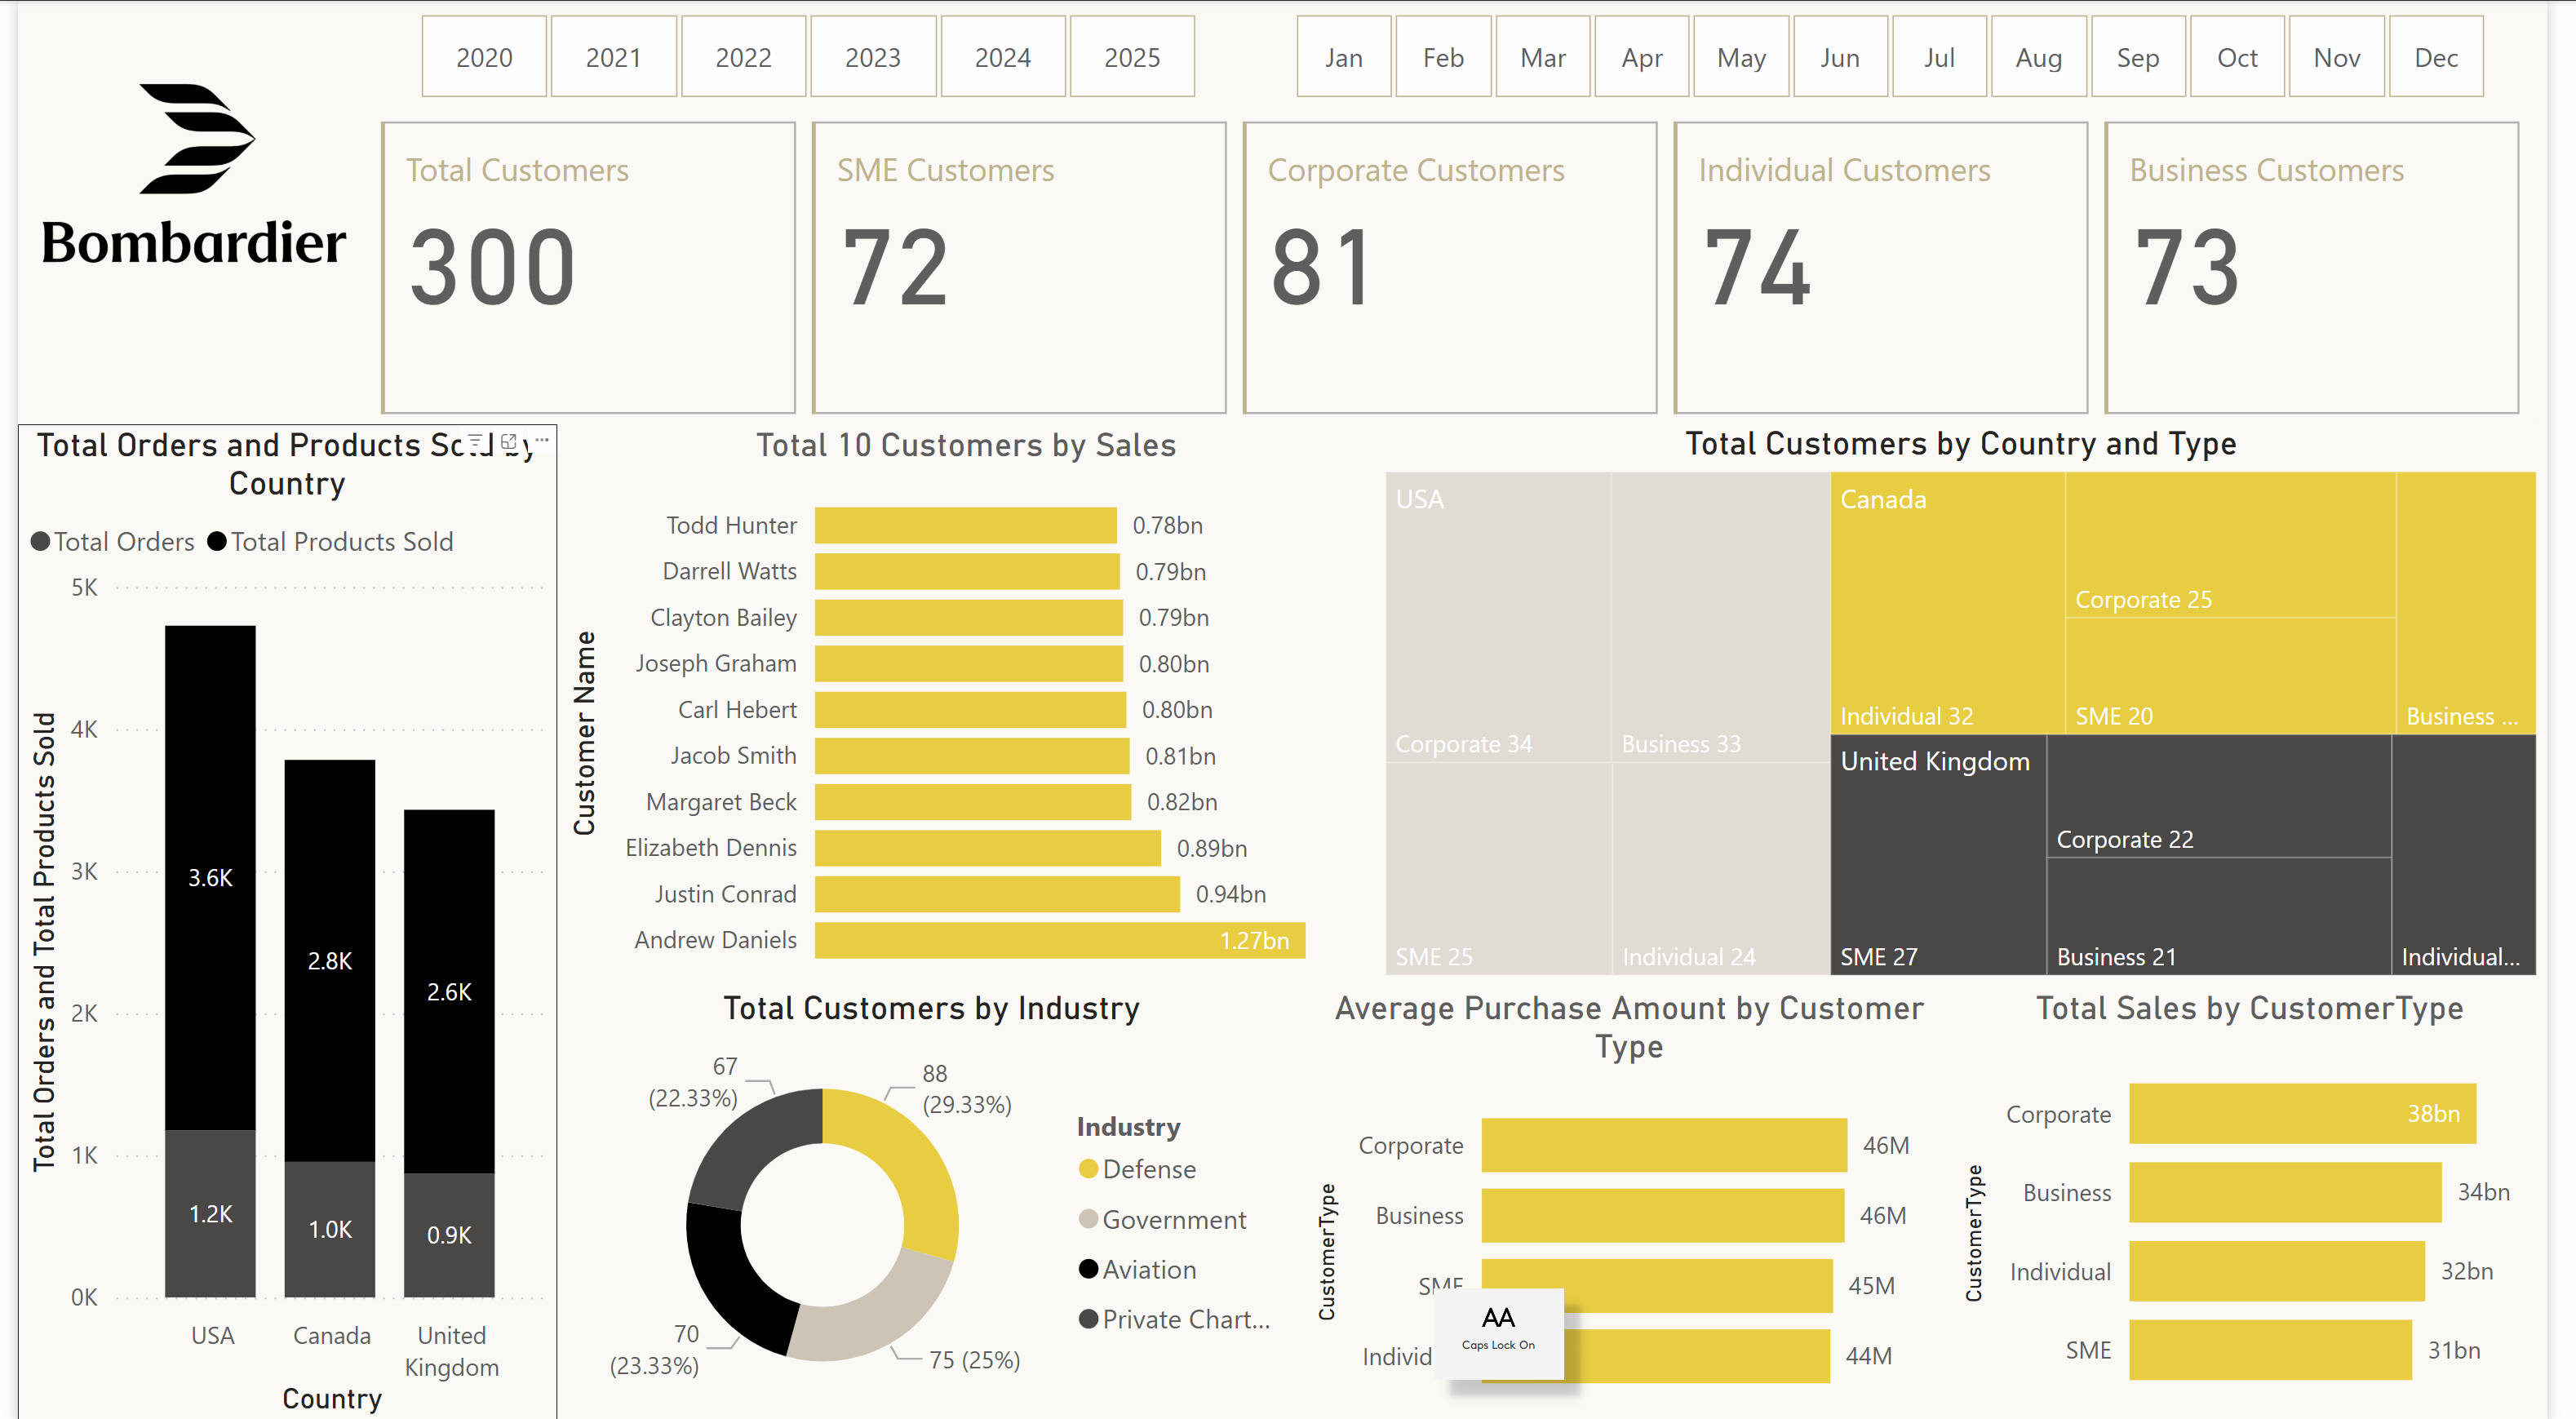

What the dashboard file says about the page in this screenshot:
{"tool":"powerbi","page":{"name":"Customer","canvas":[1280,720],"ordinal":1},"visuals":[{"type":"treemap","title":"Total Customers by Country and Type","fields":{"Values":["Measure Vals.Total Customers"],"Group":["Customers.Country"],"Details":["Customers.CustomerType"]},"box":[686.7,213.8,593.1,284.5],"z":0},{"type":"cardVisual","fields":{"Data":["Measure Vals.Total Customers","Measure Vals.SME Customers","Measure Vals.Corporate Customers","Measure Vals.Individual Customers","Measure Vals.Business Customers"]},"box":[178.3,55.8,1094,158.5],"z":1000},{"type":"slicer","fields":{"Values":["Calendar.CalendarYear"]},"box":[178.3,0,441.6,55.8],"z":3000},{"type":"slicer","fields":{"Values":["Calendar.Month_short"]},"box":[621.3,0,650.7,55.6],"z":4000},{"type":"barChart","fields":{"Category":["Customers.CustomerType"],"Y":["Measure Vals.Total Sales"]},"box":[979.3,499.3,300.7,220.7],"z":5000},{"type":"donutChart","fields":{"Y":["Measure Vals.Total Customers"],"Category":["Customers.Industry"]},"box":[272.9,499.3,378.6,220.7],"z":6000},{"type":"barChart","title":" Average Purchase Amount by Customer Type","fields":{"Y":["Measure Vals.AveragePurchaseAmount"],"Category":["Customers.CustomerType"]},"box":[651.4,499.3,327.9,220.7],"z":8000},{"type":"barChart","title":"Total 10 Customers by Sales","fields":{"Y":["Measure Vals.Total Sales"],"Category":["Customers.Name"]},"box":[272.9,214.3,413.6,285],"z":9000},{"type":"columnChart","title":"Total Orders and Products Sold by Country","fields":{"Category":["Customers.Country"],"Y":["Measure Vals.Total Orders","Measure Vals.Total Products Sold"]},"box":[0,214.3,272.9,505.7],"z":10000},{"type":"image","box":[0.6,0.6,177.7,213],"z":10001}]}

Visuals, with their boxes in screenshot pixels (x1, y1, x2, y2), scaled from the page's 1280x720 canvas onto the 2576x1419 screenshot:
"Total Customers by Country and Type" treemap: x1=1382 y1=421 x2=2575 y2=982
cardVisual - Measure Vals.Total Customers x Measure Vals.SME Customers: x1=359 y1=110 x2=2560 y2=423
slicer - Calendar.CalendarYear: x1=359 y1=0 x2=1248 y2=110
slicer - Calendar.Month_short: x1=1250 y1=0 x2=2560 y2=109
barChart - Customers.CustomerType x Measure Vals.Total Sales: x1=1971 y1=984 x2=2575 y2=1418
donutChart - Measure Vals.Total Customers x Customers.Industry: x1=549 y1=984 x2=1311 y2=1418
" Average Purchase Amount by Customer Type" barChart: x1=1311 y1=984 x2=1971 y2=1418
"Total 10 Customers by Sales" barChart: x1=549 y1=423 x2=1381 y2=984
"Total Orders and Products Sold by Country" columnChart: x1=0 y1=423 x2=549 y2=1418
image: x1=1 y1=1 x2=359 y2=421
